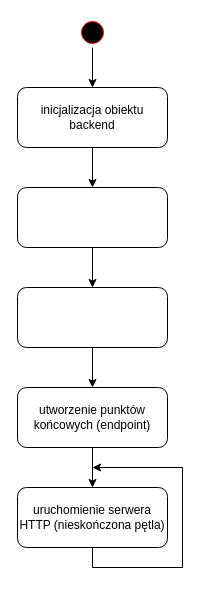
The diagram is 208 pixels wide and 593 high, and some of its shapes have lost their labels. Here are the shapes that lost their labels. From the top down, the centre of each, then its label:
the point at 92,217: otwarcie połączenia z bazą danych
the point at 92,317: dodania połączenia bazy danych do obiektu backend
